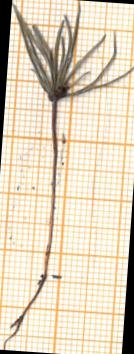flower: (5, 0, 134, 110)
root: (4, 272, 56, 354)
stem: (36, 102, 68, 274)
